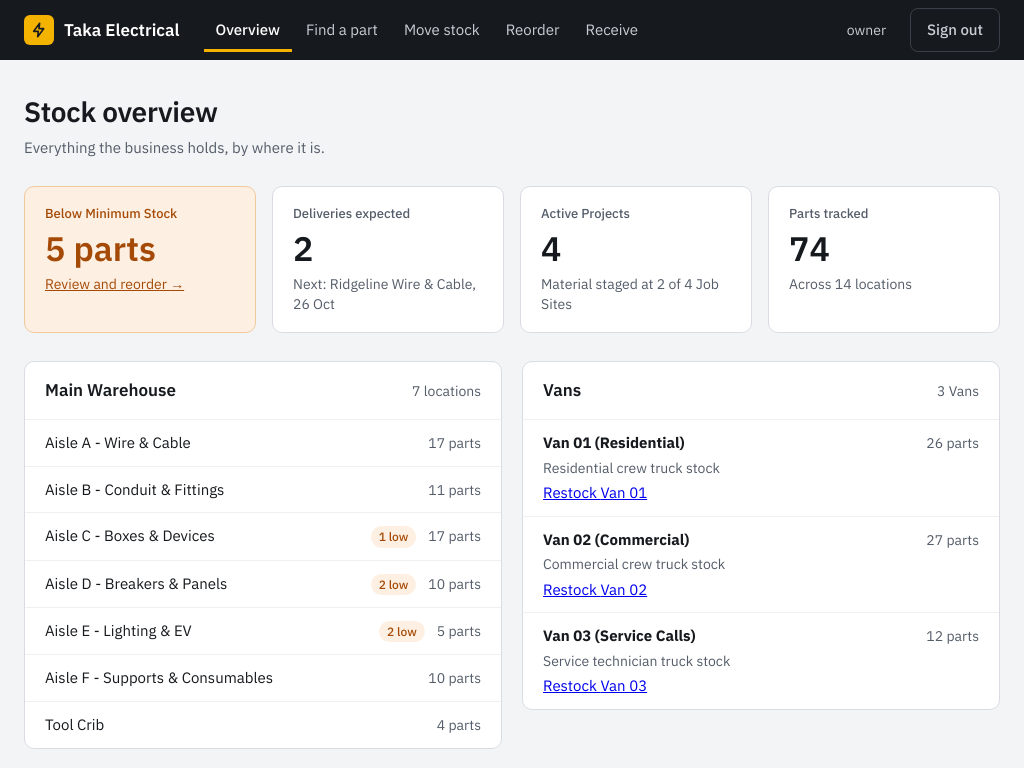
Test: Reorder › says "No price yet" for a part never bought with a price, and the total excludes it
Click the link "Reorder".
click(533, 30)  # box [506,20,560,39]
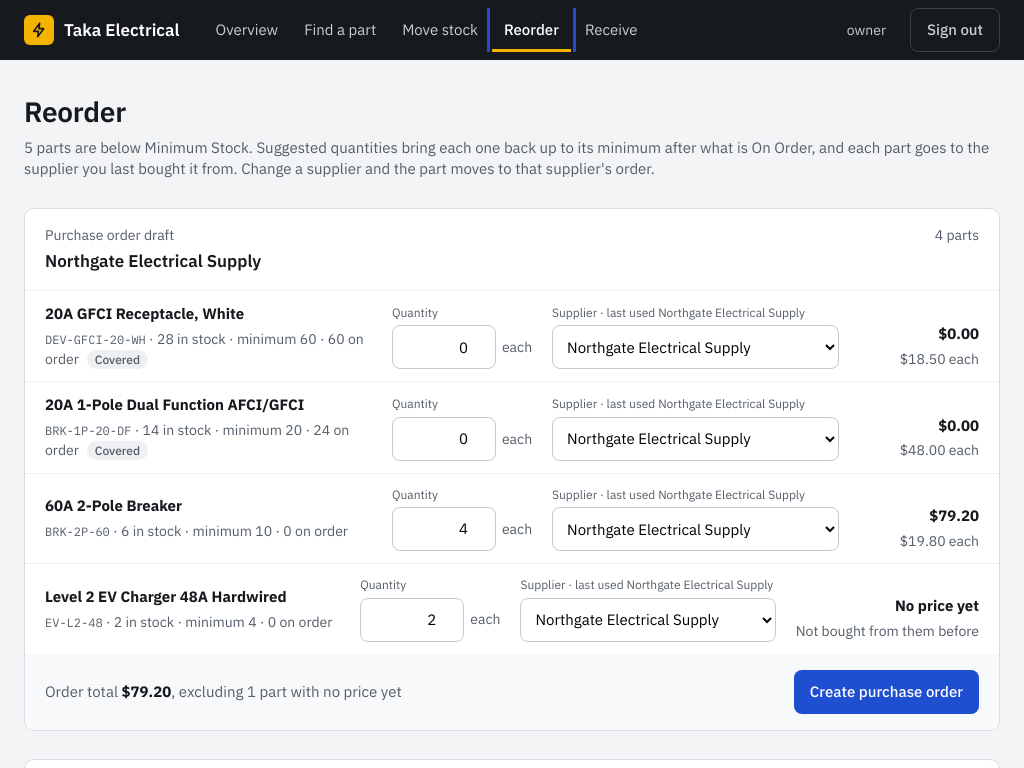
Expected: the element "Level 2 EV Charger 48A Hardwired" shows "No price yet", [895,596,979,616]
Expected: the element showing "Order total $79.20, excluding 1 part with no price yet" is shown, [45,681,402,702]
